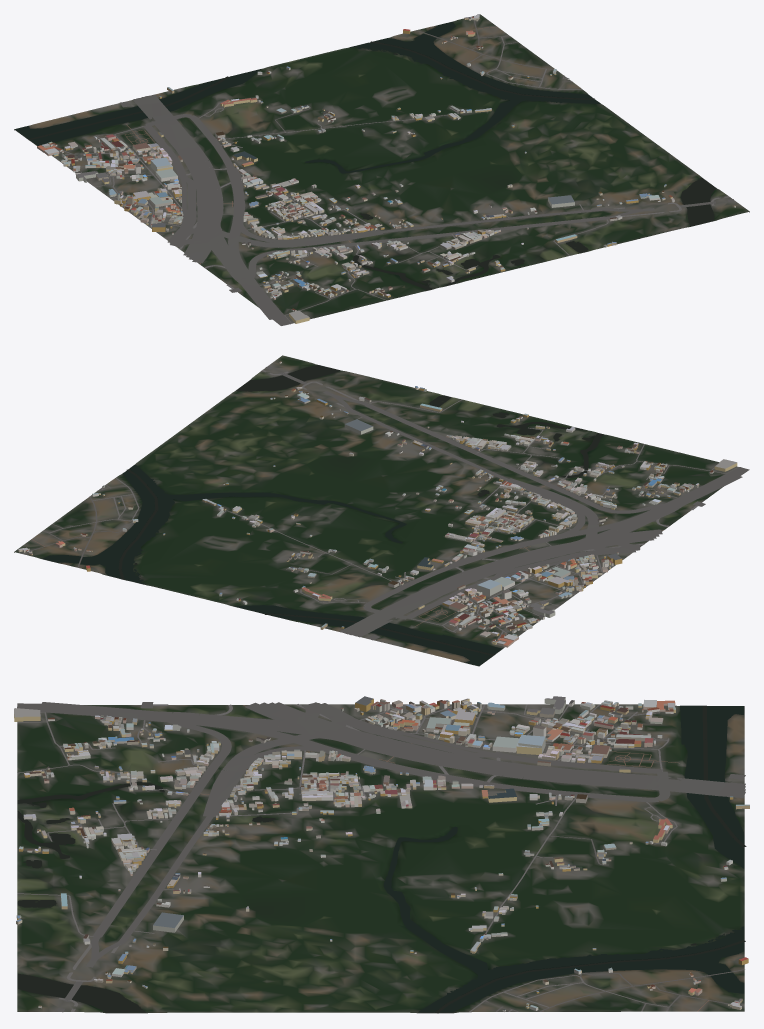
3 renders of one model, top to bottom at view 1: azimuth 30°, elevation 25°; view 2: azimuth 150°, elevation 25°; view 3: azimuth 270°, elevation 25°, orthographic. The views are drawn at different scales.
Parts seen in each view (by area): view 1: ground, buildings, roads, water; view 2: ground, buildings, roads, water; view 3: ground, roads, buildings, water.
Boxes of the visible parts, x1=… form: ground: x1=14, y1=14, x2=749, y2=323; buildings: x1=37, y1=14, x2=735, y2=323; roads: x1=62, y1=21, x2=734, y2=325; water: x1=15, y1=21, x2=716, y2=290; ground: x1=14, y1=355, x2=737, y2=666; buildings: x1=18, y1=361, x2=737, y2=647; roads: x1=30, y1=366, x2=749, y2=640; water: x1=42, y1=365, x2=603, y2=665; ground: x1=17, y1=704, x2=744, y2=1013; roads: x1=17, y1=702, x2=745, y2=1012; buildings: x1=14, y1=696, x2=749, y2=1011; water: x1=17, y1=705, x2=746, y2=1013.
Size of the model in its own units: 1419 by 26.38 by 1417.
